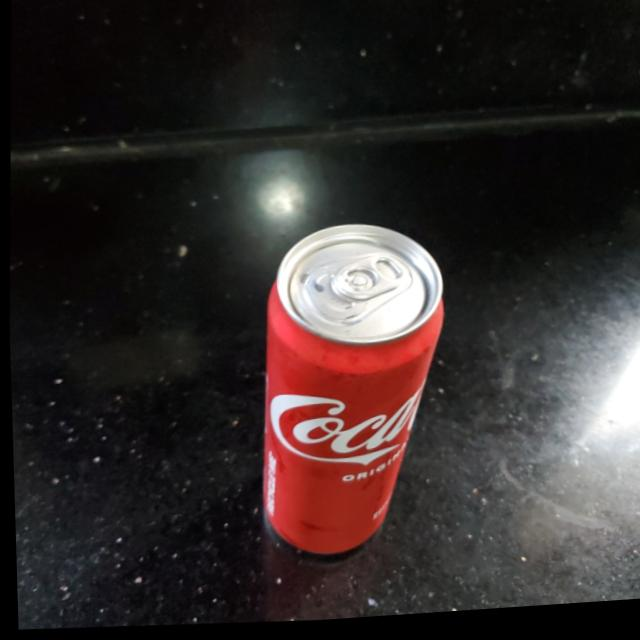coke: (250, 222, 448, 566)
